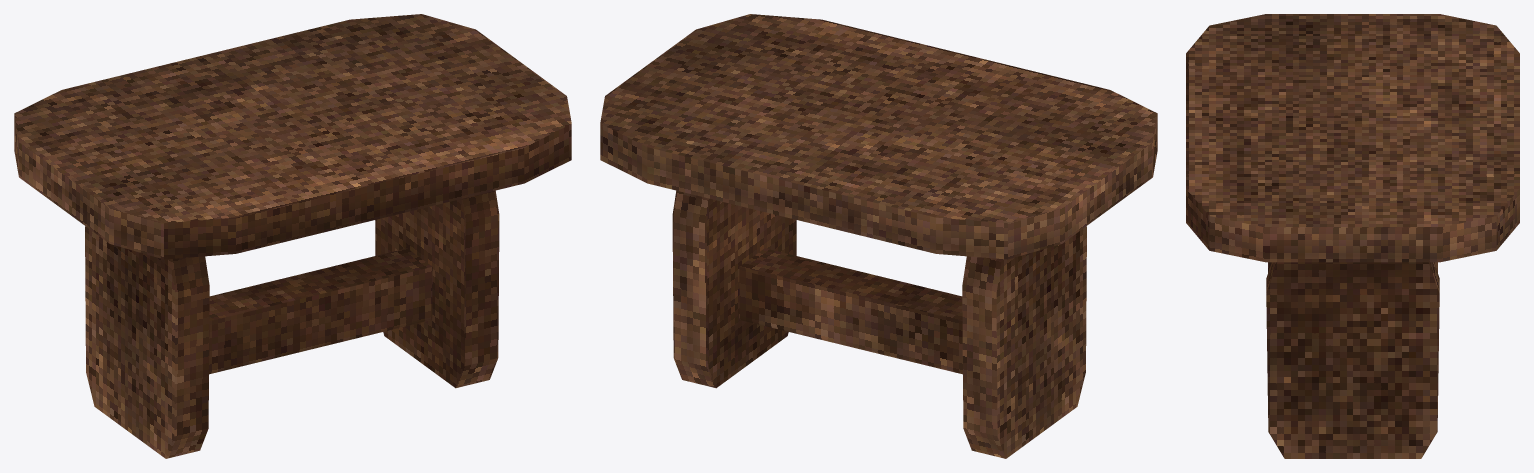
The model's file is Stool_1.gltf.
3 views of the same model, side by side, from view 1: azimuth 30°, elevation 25°; view 2: azimuth 150°, elevation 25°; view 3: azimuth 270°, elevation 25° (orthographic). The views are drawn at different scales.
Parts seen in each view (by area): view 1: Stool_1; view 2: Stool_1; view 3: Stool_1.
Boxes of the visible parts, x1,y1,x2,y2 form: Stool_1: (14,14,571,458); Stool_1: (600,14,1157,458); Stool_1: (1186,14,1519,458).
Size of the model in its own units: 3.61 by 2.07 by 2.38.
1 material, 1 textured.
